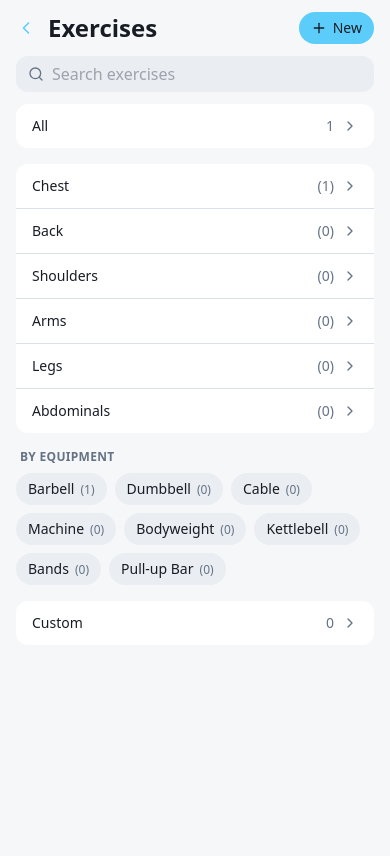
Test: ExercisesPage — live-query reflow into open detail (regression) › muscle-filtered list reflects new exercises added to allExercises after entering the filter
This screenshot has width=390, height=856.
Click the button "Chest (1)".
click(51, 186)  # box [16, 164, 374, 209]
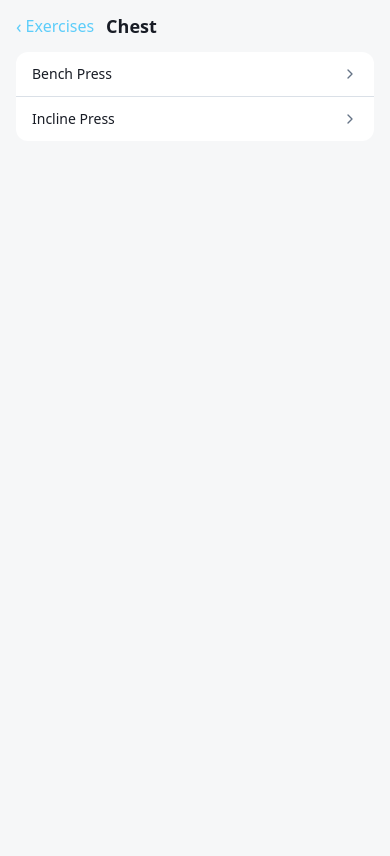
expect the button "Bench Press" is shown: met, box [16, 52, 374, 97]
expect the button "Incline Press" is shown: met, box [16, 97, 374, 141]
